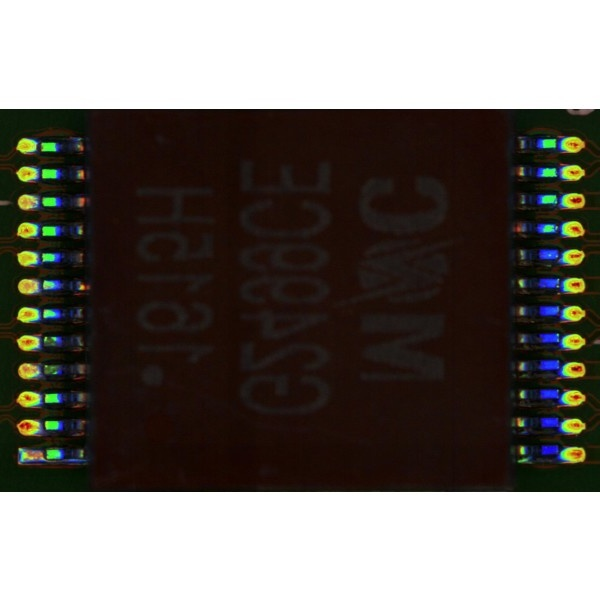Bad_podu: (35, 451, 54, 460)
